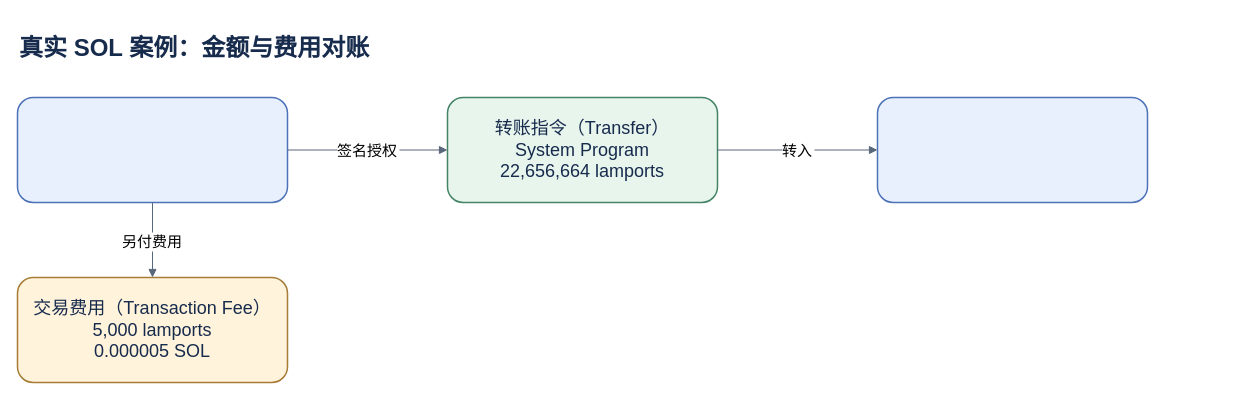
The diagram is 1235 pixels wide and 400 high, and some of its shapes have lost their labels. Each missing label, with the box of its shape:
发送 / 付费者（Source / Payer） ALXa…bGQH 净减少 22,661,664 lamports: (16, 96, 288, 203)
接收账户（Destination） GJWb…Dj39 净增加 22,656,664 lamports: (876, 96, 1148, 203)
